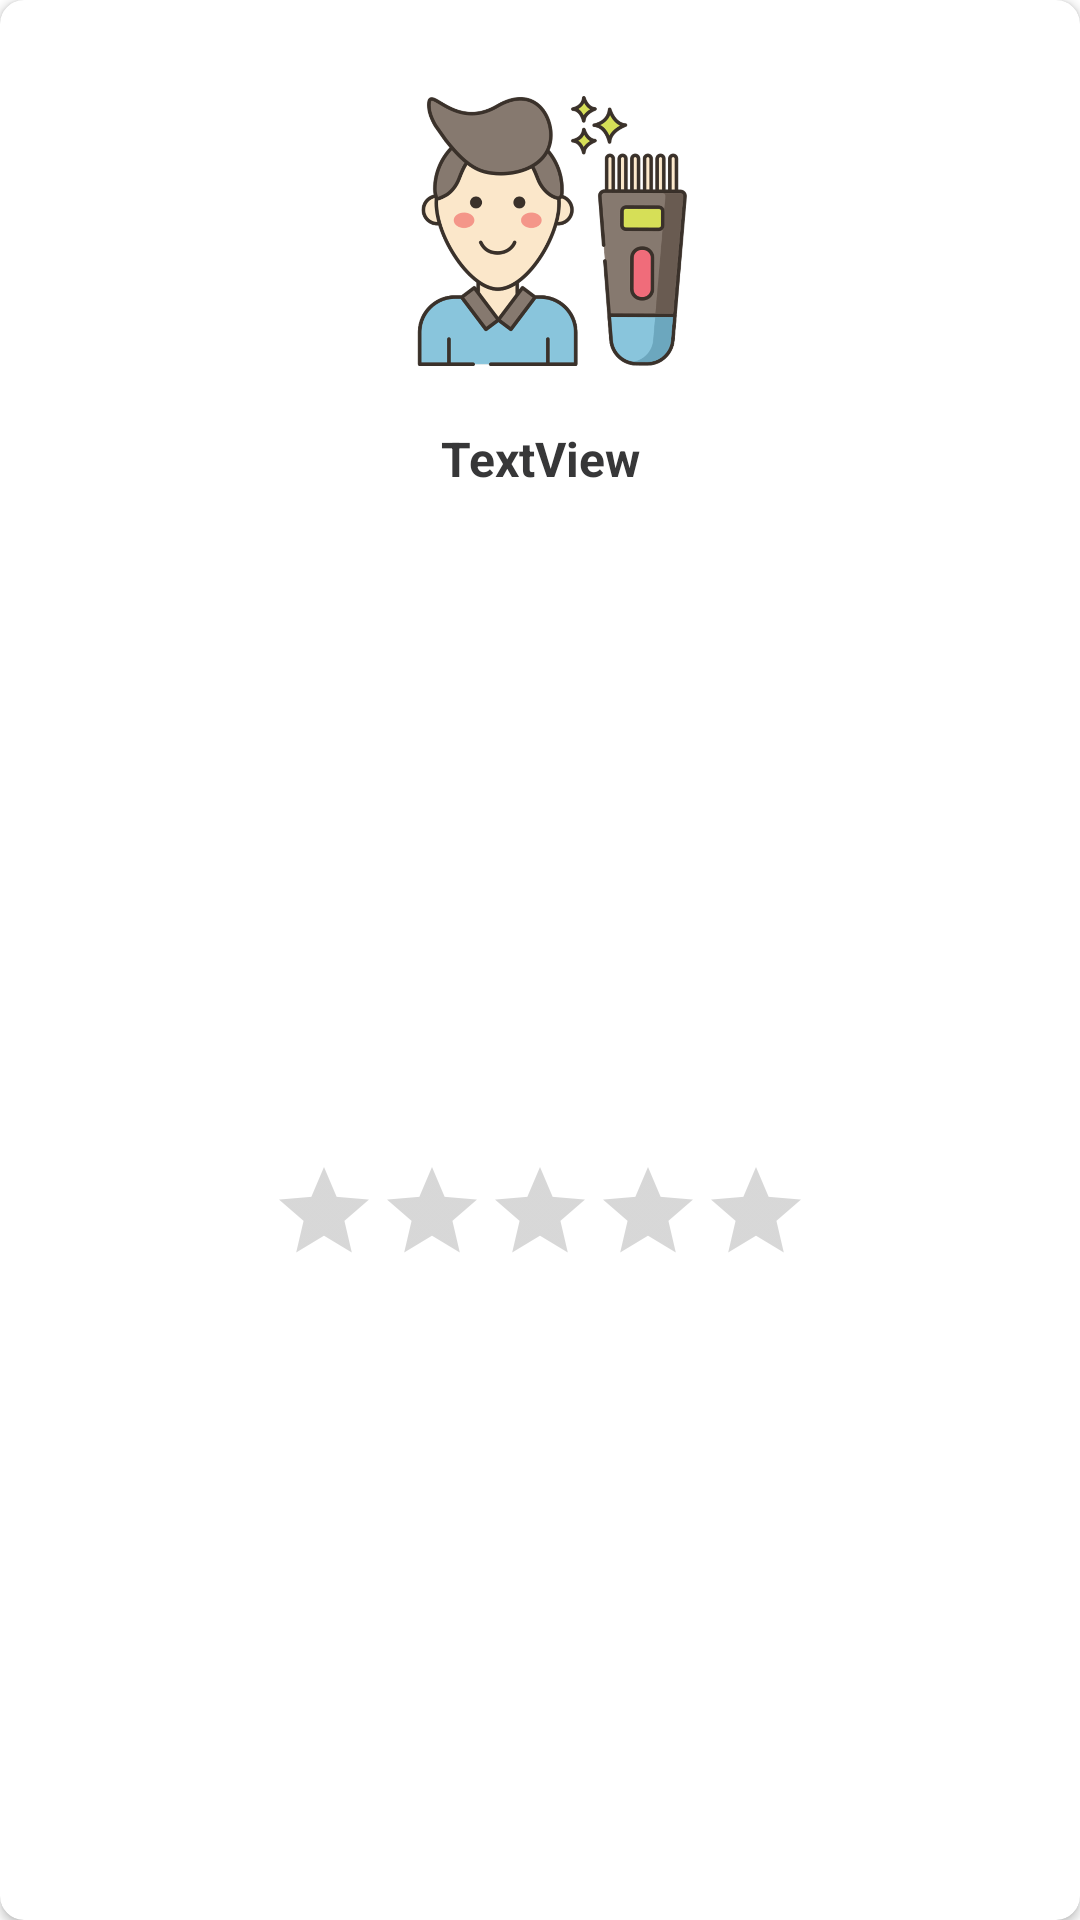

Where icons sit on this 1080×1920 app screen, as (x1=x1, y1=y1, x2=x2, y2=y2):
salon men: (x1=417, y1=96, x2=687, y2=366)
